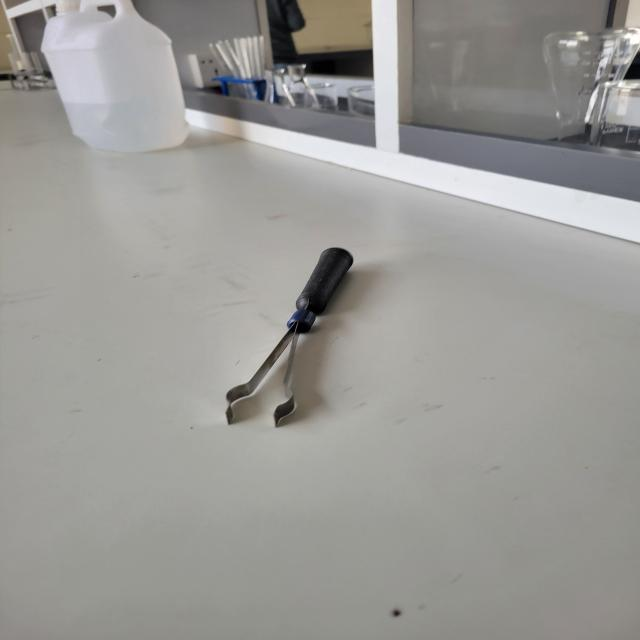TestTube_Holder: (191, 220, 394, 458)
